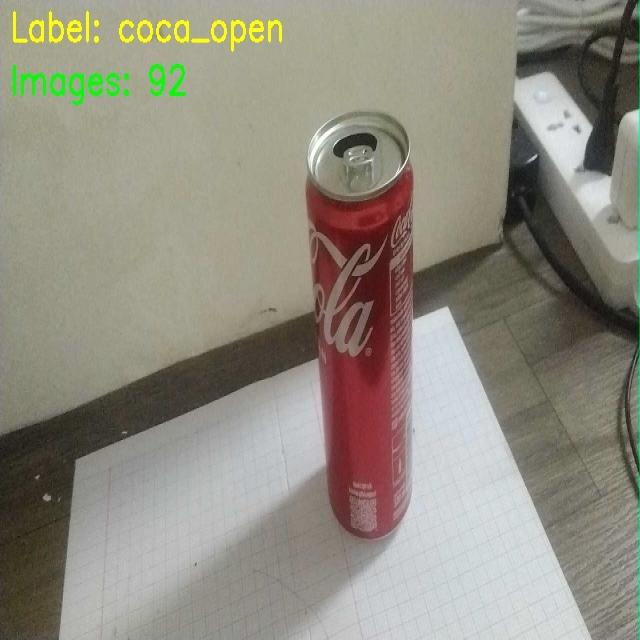Coca_open: (307, 97, 451, 552)
